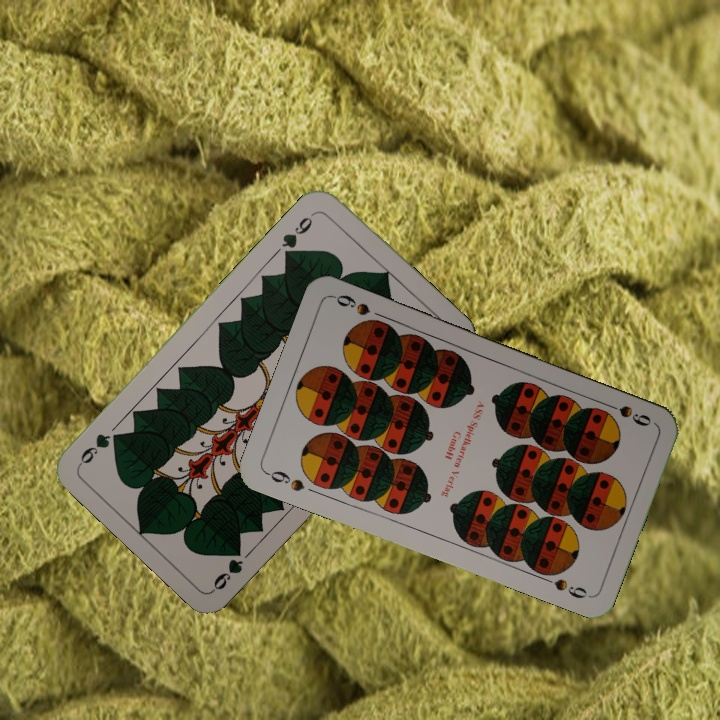G9: (278, 208, 319, 261), (209, 544, 246, 594)
S9: (599, 398, 654, 429), (262, 466, 307, 494)
